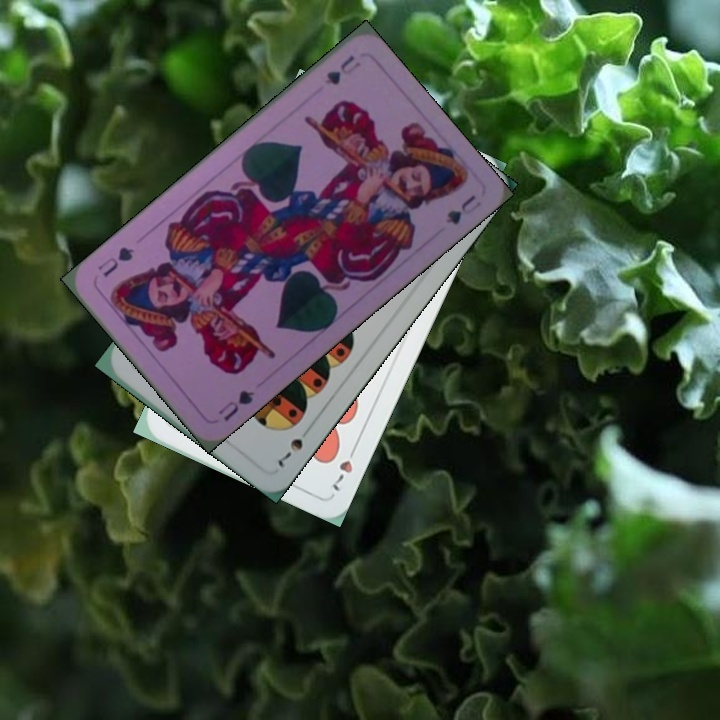GU: (214, 385, 257, 424), (320, 51, 363, 88)
H7: (328, 440, 360, 495)
S7: (271, 422, 313, 471)
